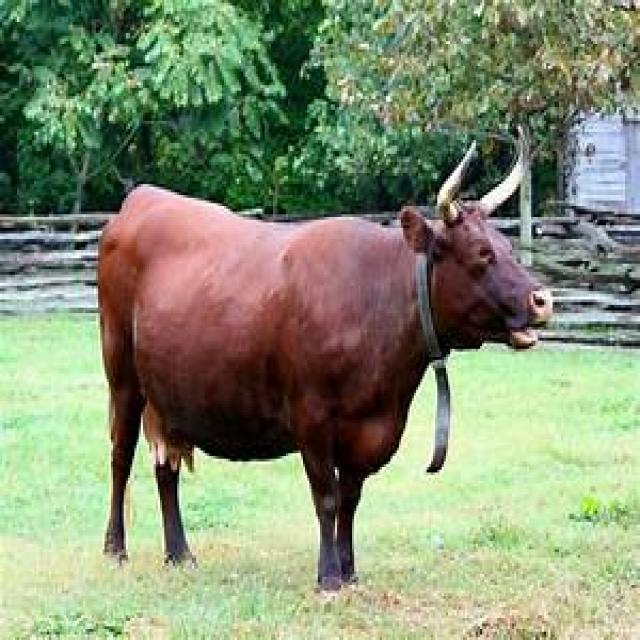cow: (96, 184, 555, 593)
